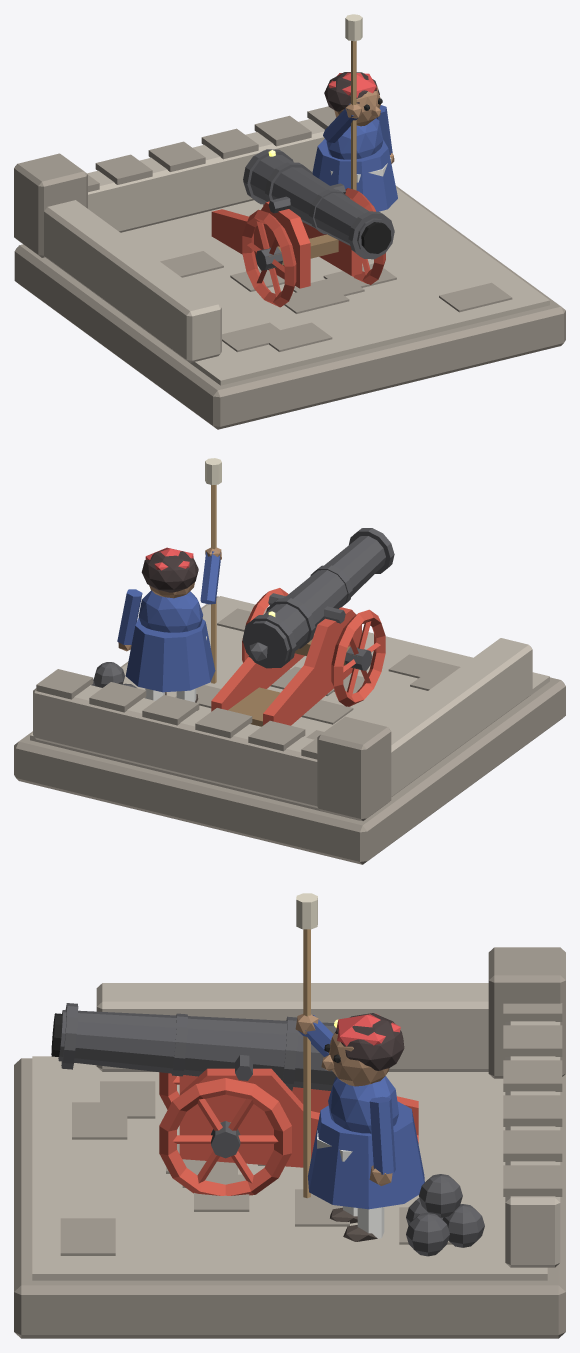
The model's file is cannon.glb.
The picture shows the model from 3 angles, top to bottom: view 1: azimuth 30°, elevation 25°; view 2: azimuth 150°, elevation 25°; view 3: azimuth 270°, elevation 25°; orthographic projection. The views are drawn at different scales.
Visible parts, largest first — view 1: Cube.272, Cube.271, Cube.284, Cube.283, Cone.104, Cube.291, Slab.026, Cone.106, Torus.034, Icosphere.342, Cube.277, Cube.274 (+19 smaller); view 2: Cube.271, Cube.283, Cube.284, Cube.272, Cube.291, Cone.104, Cone.106, Slab.026, Torus.034, Icosphere.342, Slab.027, Icosphere.347 (+15 smaller); view 3: Cube.272, Cube.271, Cube.284, Cone.104, Cone.106, Slab.027, Cube.291, Torus.036, Cube.283, Icosphere.342, Cube.277, Cube.274 (+26 smaller).
Part boxes in pixels (x1,y1,x2,y2): Cube.272: (45, 188, 549, 385); Cube.271: (14, 185, 565, 429); Cube.284: (44, 200, 221, 362); Cube.283: (87, 119, 324, 232); Cone.104: (243, 150, 391, 254); Cube.291: (14, 153, 87, 257); Slab.026: (211, 201, 310, 288); Cone.106: (312, 139, 397, 211); Torus.034: (242, 209, 296, 307); Icosphere.342: (326, 118, 383, 159); Cube.277: (439, 282, 512, 312); Cube.274: (259, 322, 332, 351); Cube.271: (14, 596, 565, 864); Cube.283: (33, 685, 317, 808); Cube.284: (381, 638, 532, 796); Cube.272: (30, 596, 549, 820); Cube.291: (317, 716, 391, 820); Cone.104: (242, 536, 385, 668); Cone.106: (125, 618, 215, 692); Slab.026: (263, 607, 361, 725); Torus.034: (331, 609, 385, 706); Icosphere.342: (138, 590, 202, 632); Slab.027: (211, 611, 304, 711); Icosphere.347: (141, 548, 198, 592); Cube.272: (32, 1056, 547, 1280); Cube.271: (14, 1058, 565, 1338); Cube.284: (96, 983, 488, 1071); Cone.104: (58, 1010, 336, 1090); Cone.106: (308, 1101, 424, 1209); Slab.027: (179, 1068, 418, 1167); Cube.291: (488, 947, 565, 1078); Torus.036: (159, 1078, 291, 1195); Cube.283: (505, 1021, 560, 1267); Icosphere.342: (328, 1076, 398, 1133); Cube.277: (60, 1218, 115, 1255); Cube.274: (72, 1102, 127, 1139).
Bounding box in the file's own units: 3 × 2.24 × 3.
